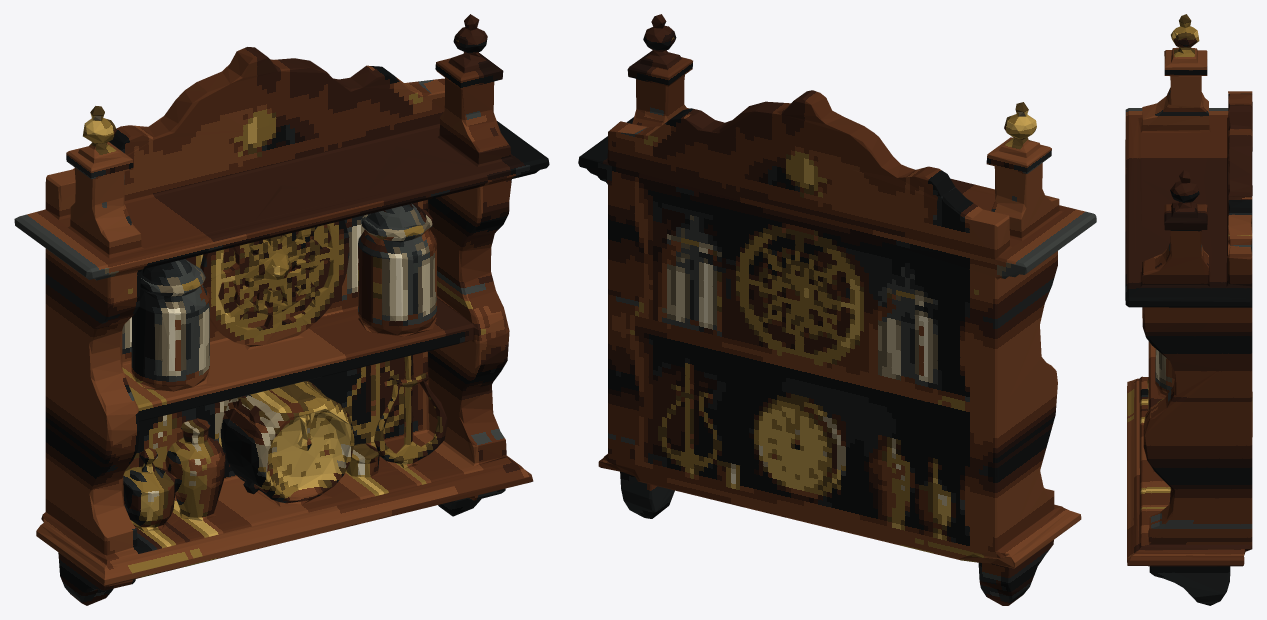
The model's file is shelf.glb.
3 views of the same model, side by side, from view 1: azimuth 30°, elevation 25°; view 2: azimuth 150°, elevation 25°; view 3: azimuth 270°, elevation 25° (orthographic). The views are drawn at different scales.
Visible parts, largest first — view 1: shelf; view 2: shelf; view 3: shelf.
Part boxes in pixels (x1,y1,x2,y2): shelf: [14, 14, 549, 605]; shelf: [578, 14, 1096, 605]; shelf: [1125, 14, 1252, 605].
Bounding box in the file's own units: 1.24 × 1.3 × 0.3437.
1 material, 1 textured.
